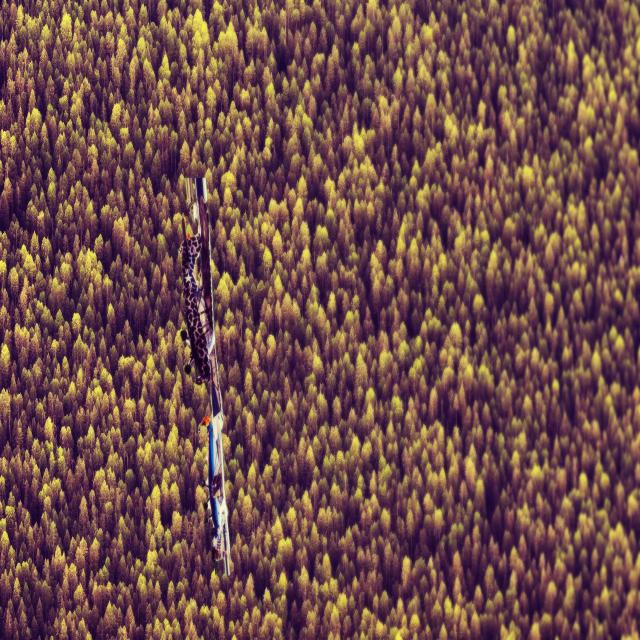airplane: (178, 175, 232, 579)
